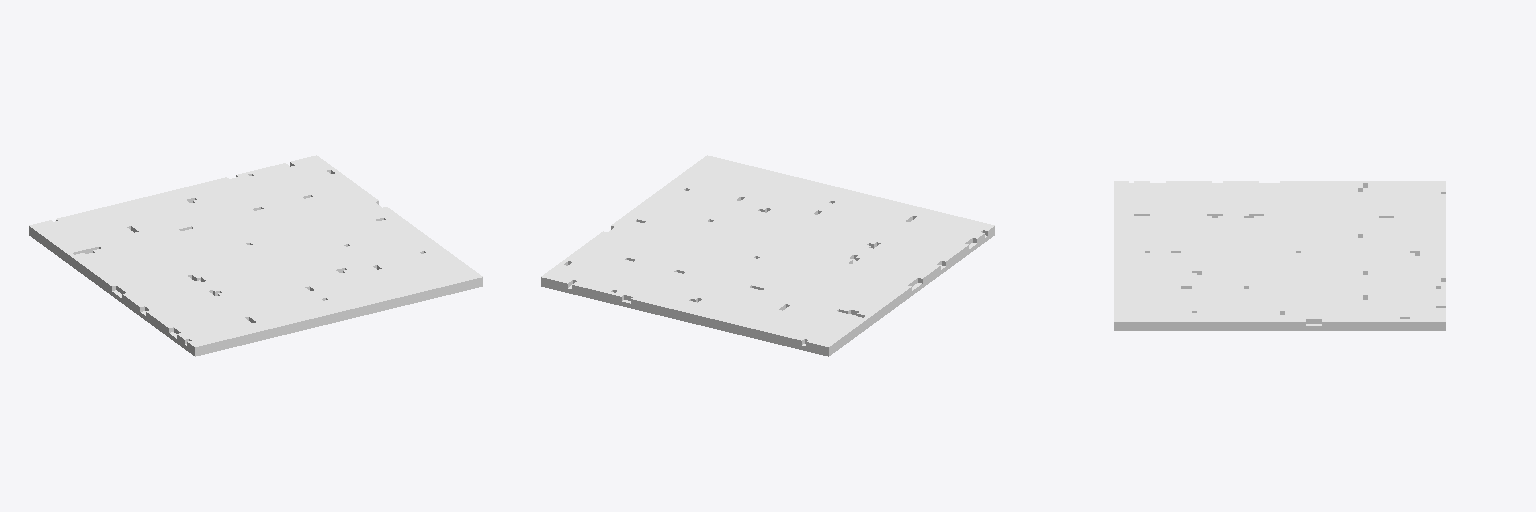
Rendered from Tutorialmap_V2_unfinished-23.obj.
3 views of the same model, side by side, from view 1: azimuth 30°, elevation 25°; view 2: azimuth 150°, elevation 25°; view 3: azimuth 270°, elevation 25° (orthographic).
Visible parts, largest first — view 1: object 1; view 2: object 1; view 3: object 1.
Boxes of the visible parts, x1,y1,x2,y2 form: object 1: [29, 155, 482, 356]; object 1: [541, 155, 994, 356]; object 1: [1114, 181, 1445, 330].
Size of the model in its own units: 6.4 by 0.2 by 6.4.